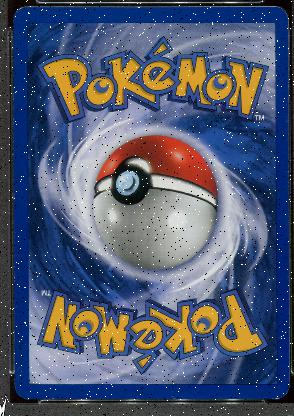Card: (10, 5, 291, 403)
Corner Wear: (268, 390, 287, 400), (17, 393, 30, 401), (15, 6, 23, 14)
Edge Wear: (12, 84, 13, 127), (47, 397, 55, 399), (13, 274, 14, 284)
Scratch: (18, 366, 23, 374)
